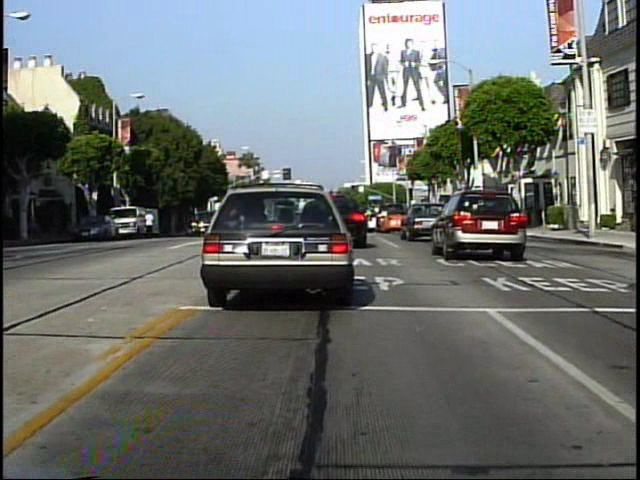person: (145, 208, 158, 240)
